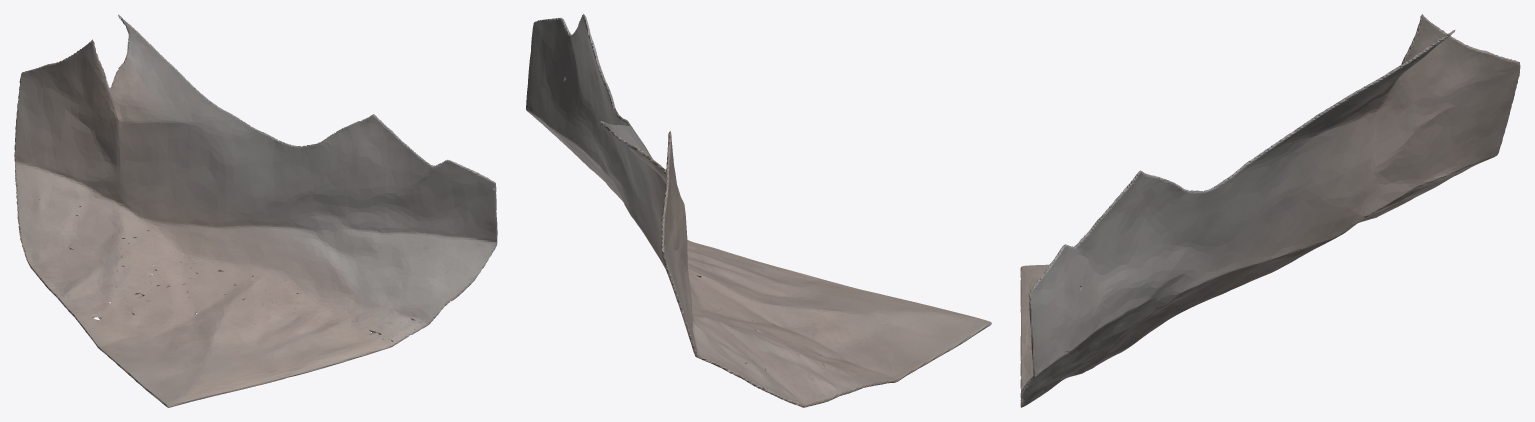
The model's file is room-02.glb.
3 renders of one model, left to right at view 1: azimuth 30°, elevation 25°; view 2: azimuth 150°, elevation 25°; view 3: azimuth 270°, elevation 25°, orthographic. The views are drawn at different scales.
Parts seen in each view (by area): view 1: textured_mesh.obj; view 2: textured_mesh.obj; view 3: textured_mesh.obj.
Boxes of the visible parts, bbox=[...] form: textured_mesh.obj: bbox=[14, 14, 497, 407]; textured_mesh.obj: bbox=[526, 14, 991, 407]; textured_mesh.obj: bbox=[1020, 14, 1520, 407].
Size of the model in its own units: 1.99 by 1.37 by 1.99.
Materials: 1 (1 with a texture image).
